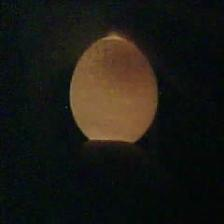infertile: (68, 35, 160, 149)
